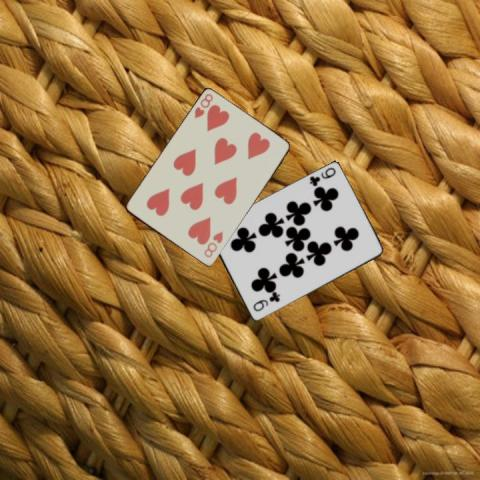8h: (201, 229, 225, 259), (191, 91, 215, 120)
9c: (306, 165, 337, 188), (250, 291, 281, 313)
